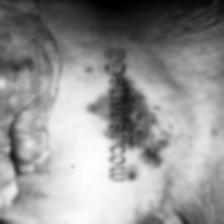Toxin: (128, 110, 168, 162)
